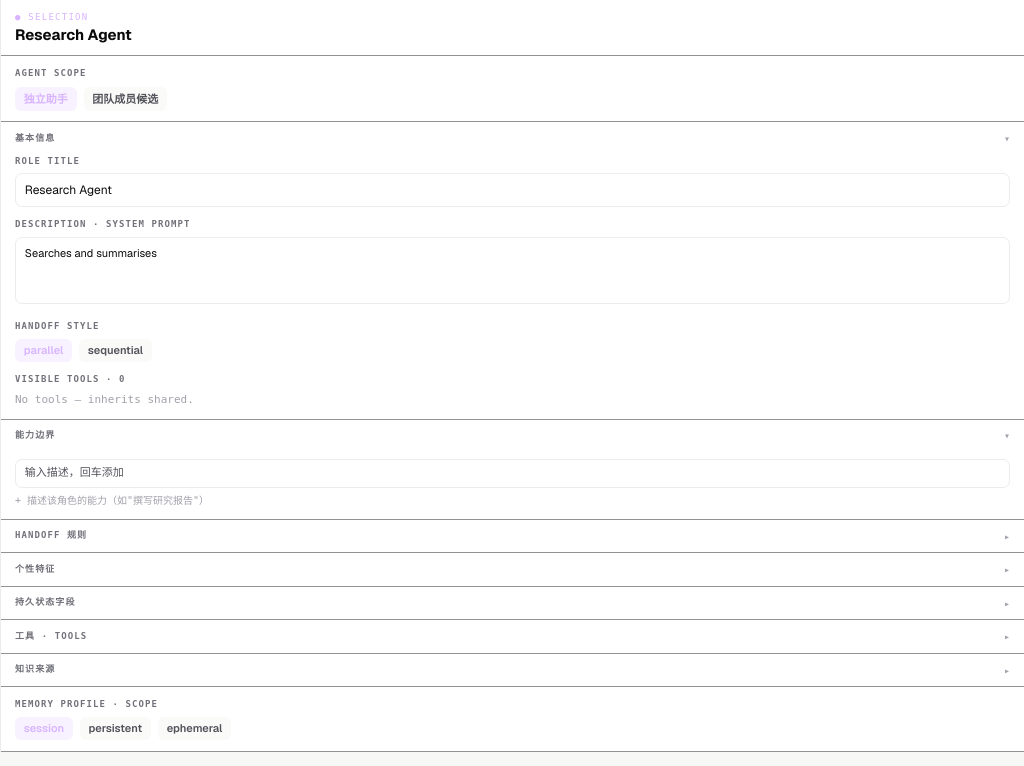
Test case: AC1 — 分组折叠展开 › 点击 持久状态字段 切换展开
Click the button with test id "section-state-fields-toggle" at (45, 602), box top-left (1, 587), bottom-right (1023, 619)
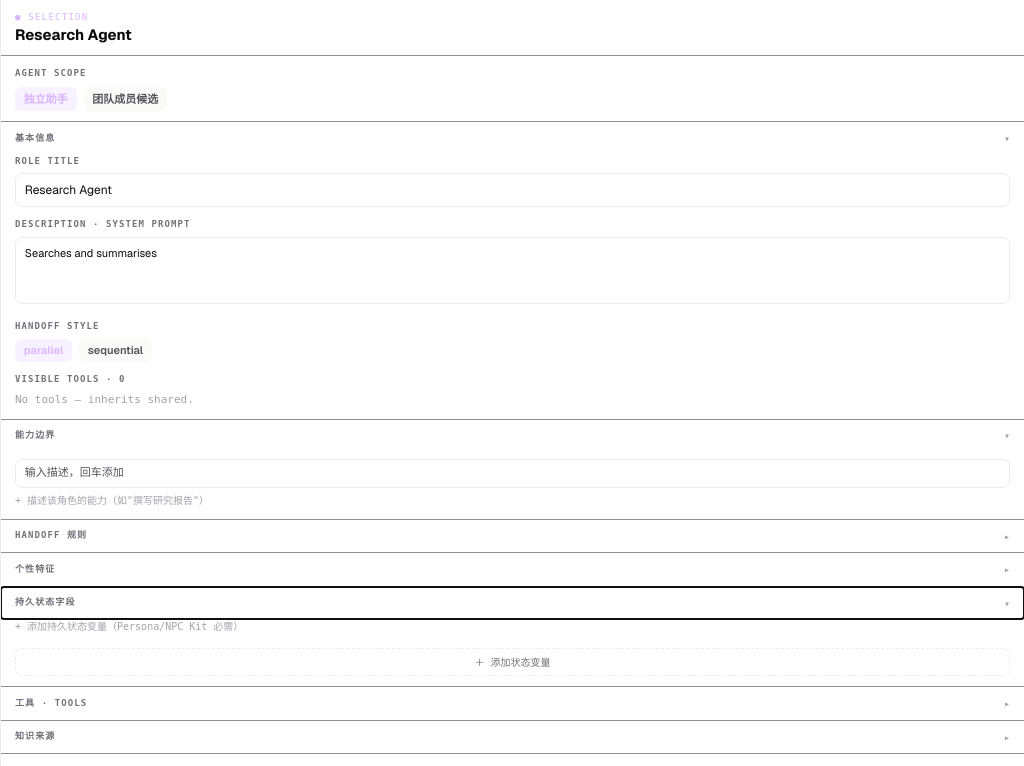
Result: the element with test id "state-fields-editor" is shown at top-left (15, 619), bottom-right (1010, 676)
